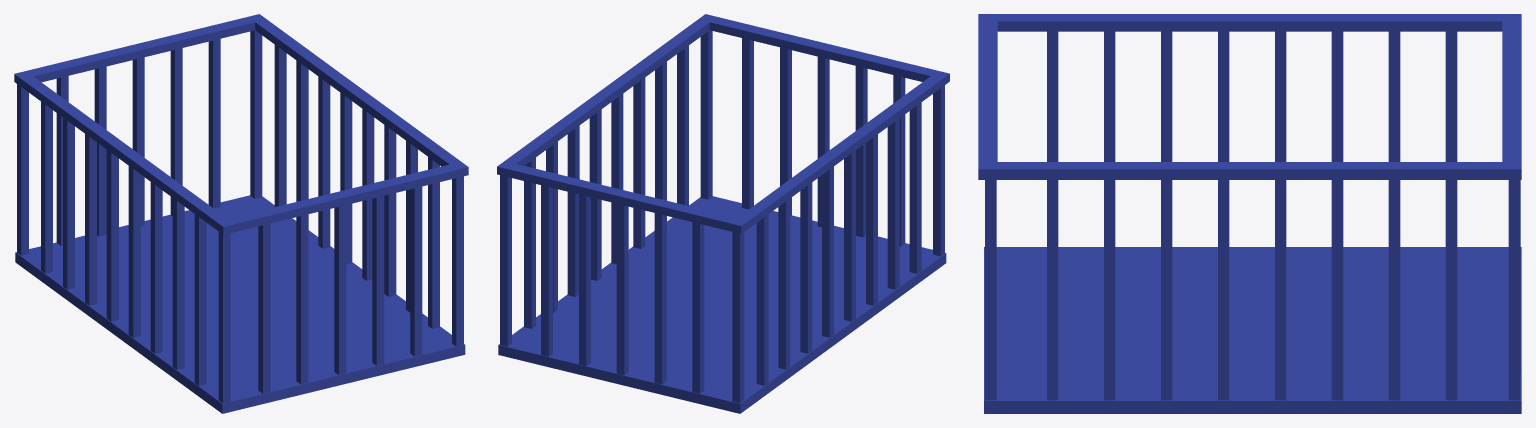
Rendered from dungbong.fbx.
3 views of the same model, side by side, from view 1: azimuth 30°, elevation 25°; view 2: azimuth 150°, elevation 25°; view 3: azimuth 270°, elevation 25° (orthographic). The views are drawn at different scales.
Parts seen in each view (by area): view 1: dungbong; view 2: dungbong; view 3: dungbong.
Part boxes in pixels (bbox=[...]): dungbong: bbox=[14, 14, 468, 413]; dungbong: bbox=[497, 14, 949, 413]; dungbong: bbox=[978, 14, 1521, 413].
Bounding box in the file's own units: 257 × 189 × 380.
